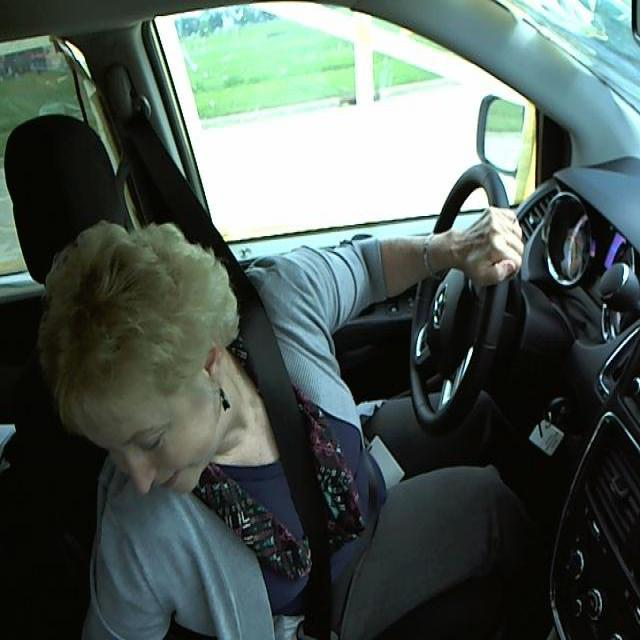seatbelt: (237, 342, 379, 614)
